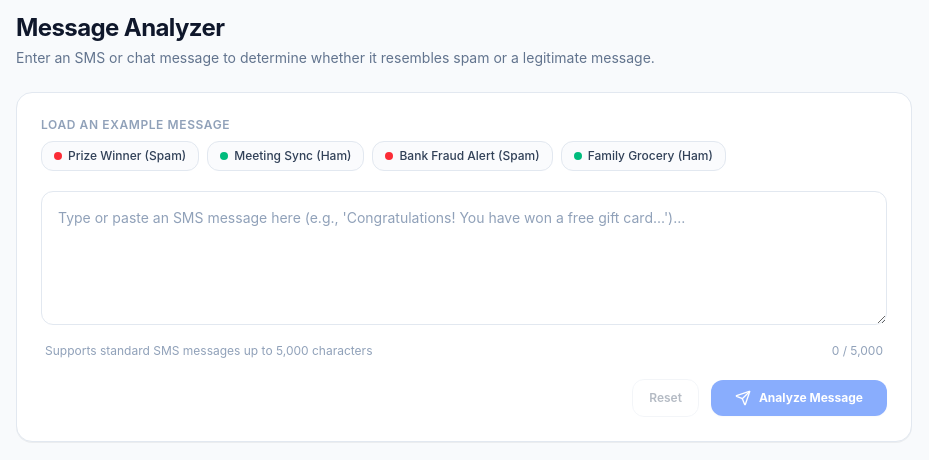
Scenario: AnalyzerPage Component › handles backend API errors gracefully
Replace the text in the text box with placeholder "Type or paste an SMS message here" with "Test message for failure" at (464, 258), box [41,191,887,325]
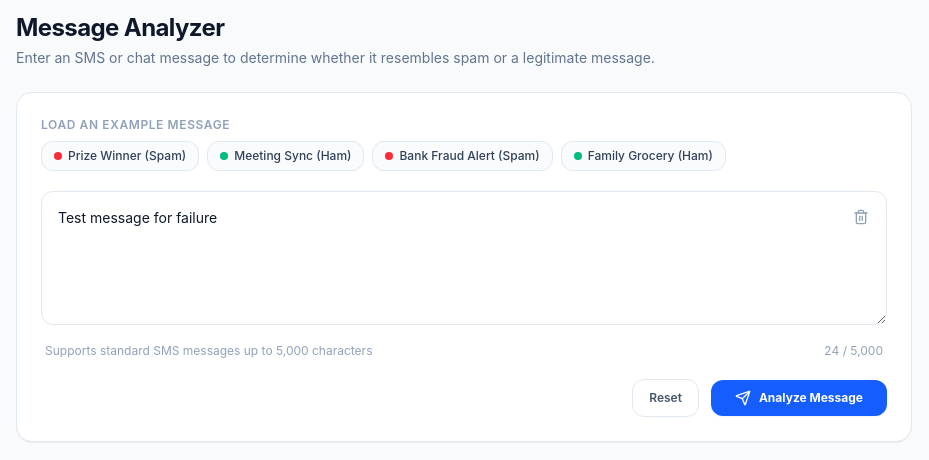
Click the button "Analyze Message" at (799, 398), box [711,380,887,416]
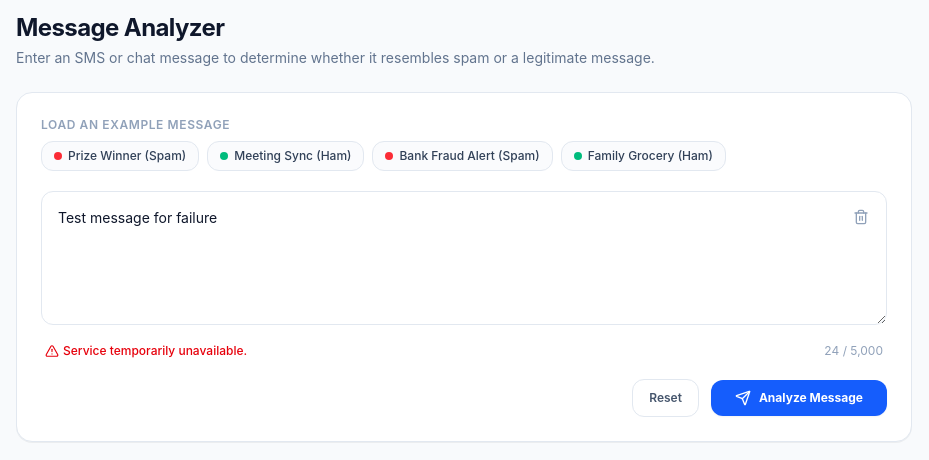
Expected: the text "Service temporarily unavailable." is shown, [45,343,247,359]
